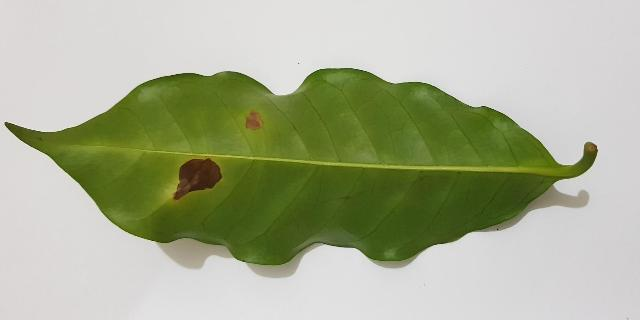cercospora: (173, 158, 221, 201), (246, 111, 261, 129)
